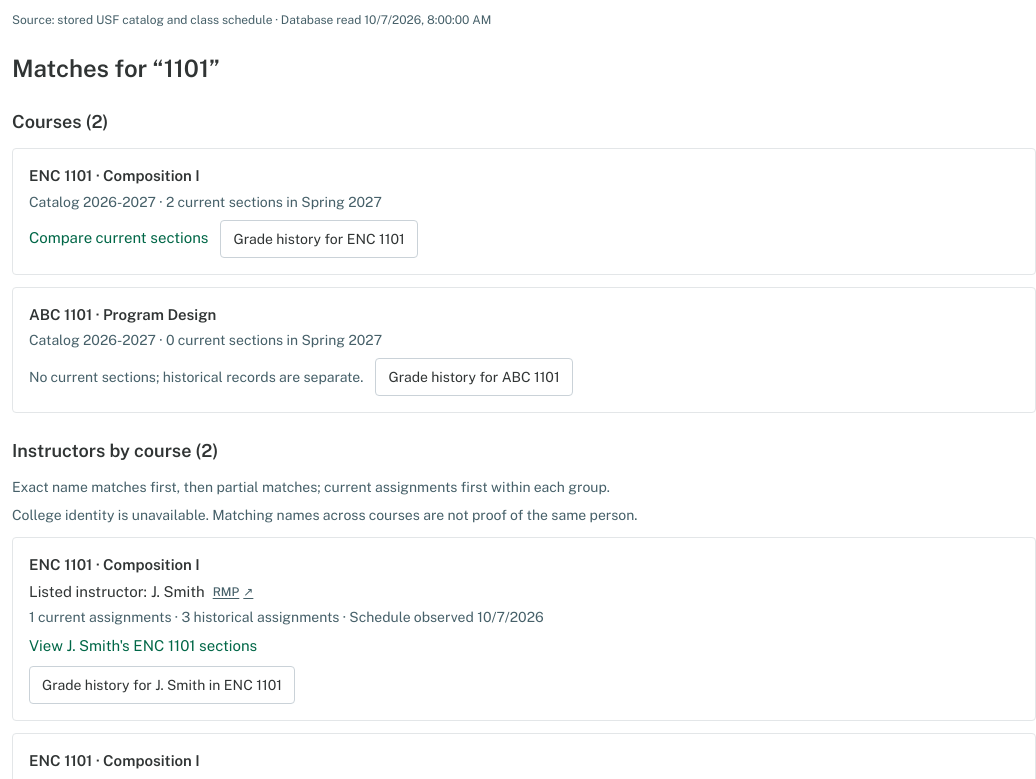
Test case: expanded search › preserves no_letter_grades evidence states
Click the button "Grade history for ENC 1101" at (319,238), box [220,220,418,258]
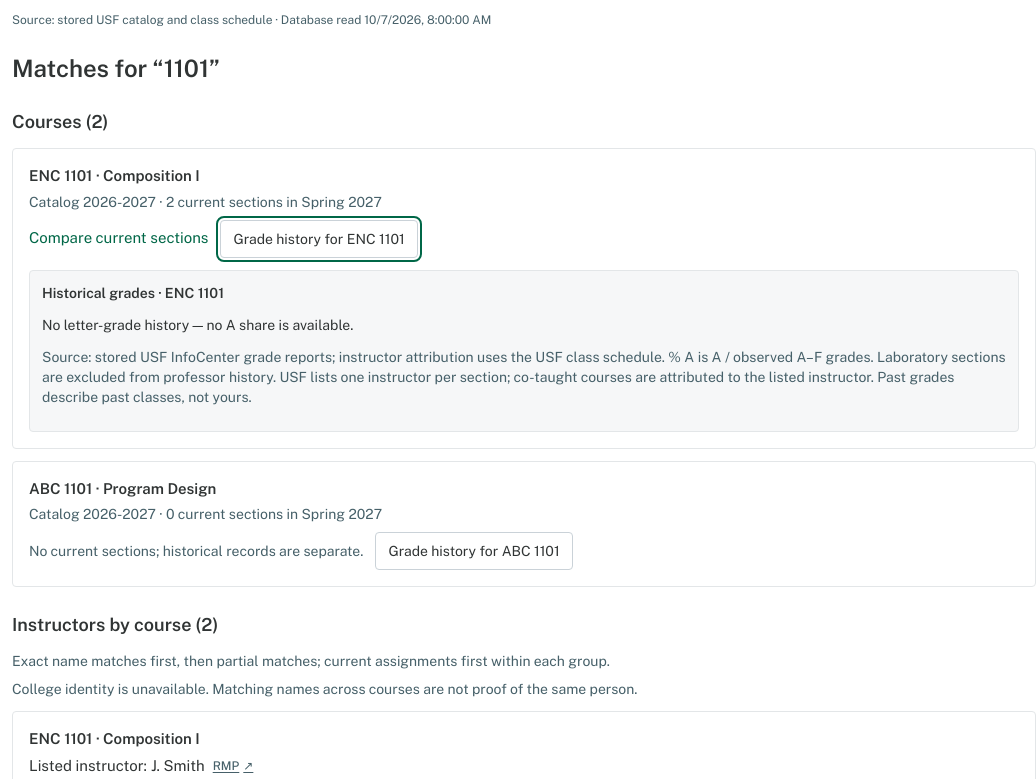
Expected: the text "No letter-grade history — no A share is available." is shown, [42,316,353,332]
